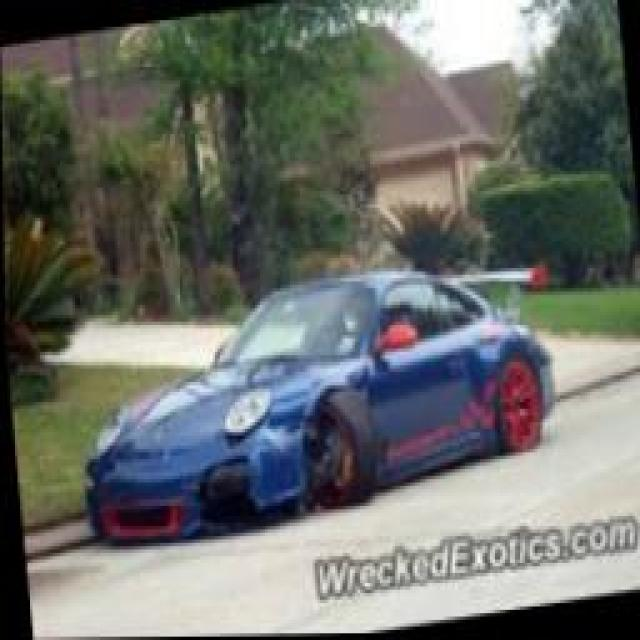replaceable: (278, 397, 346, 502), (195, 454, 260, 524)
